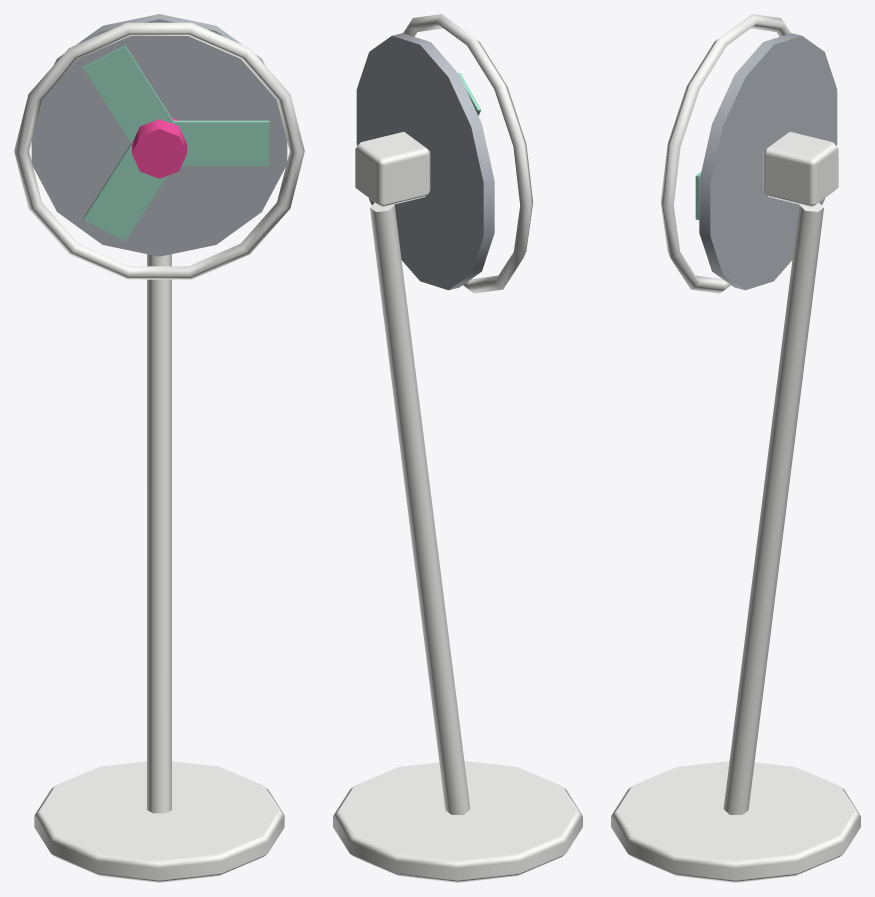
File: station_transport_ausstattung_3_1.glb
The picture shows the model from 3 angles, left to right: view 1: azimuth 30°, elevation 25°; view 2: azimuth 150°, elevation 25°; view 3: azimuth 270°, elevation 25°; orthographic projection.
Visible parts, largest first — view 1: station_transport_ausstattung_3_1; view 2: station_transport_ausstattung_3_1; view 3: station_transport_ausstattung_3_1.
Boxes of the visible parts, bbox=[...] form: station_transport_ausstattung_3_1: bbox=[14, 14, 304, 882]; station_transport_ausstattung_3_1: bbox=[333, 14, 582, 882]; station_transport_ausstattung_3_1: bbox=[611, 14, 860, 882].
Bounding box in the file's own units: 0.4124 × 1.43 × 0.4.
